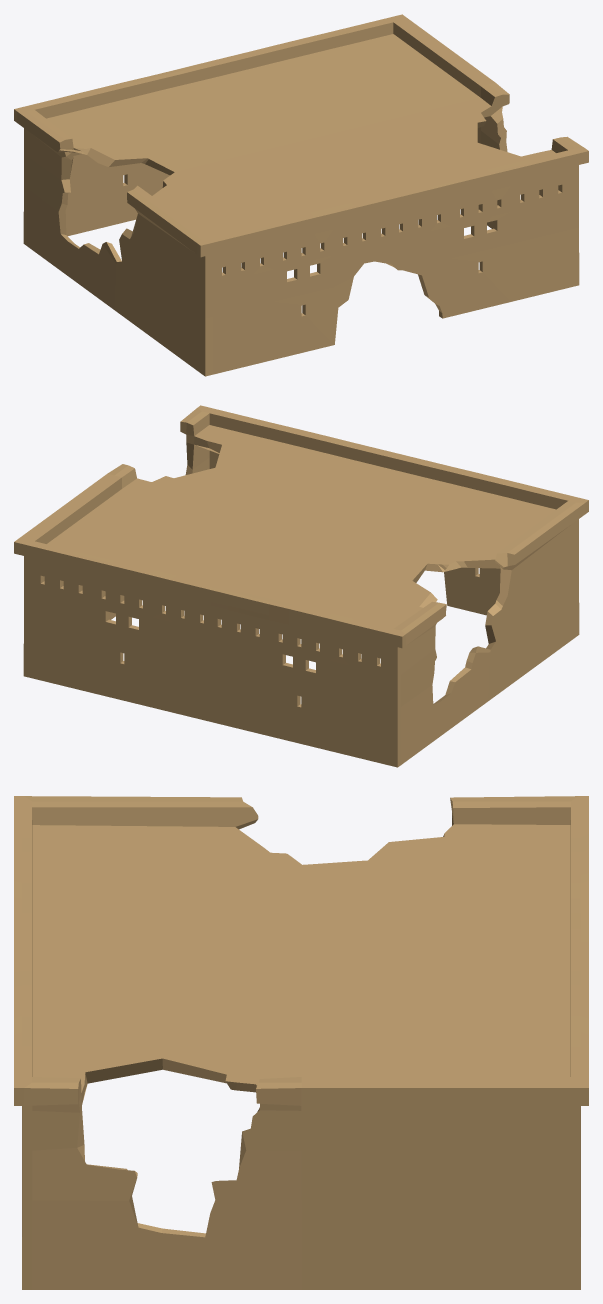
File: Ruins_BigBuildingfbx.fbx
3 renders of one model, top to bottom at view 1: azimuth 30°, elevation 25°; view 2: azimuth 150°, elevation 25°; view 3: azimuth 270°, elevation 25°, orthographic. The views are drawn at different scales.
Parts seen in each view (by area): view 1: BigHalfBuilding.001; view 2: BigHalfBuilding.001; view 3: BigHalfBuilding.001.
Boxes of the visible parts, bbox=[...] form: BigHalfBuilding.001: bbox=[14, 14, 588, 376]; BigHalfBuilding.001: bbox=[14, 405, 588, 767]; BigHalfBuilding.001: bbox=[14, 796, 588, 1289].
Size of the model in its own units: 2419 by 801 by 2013.
